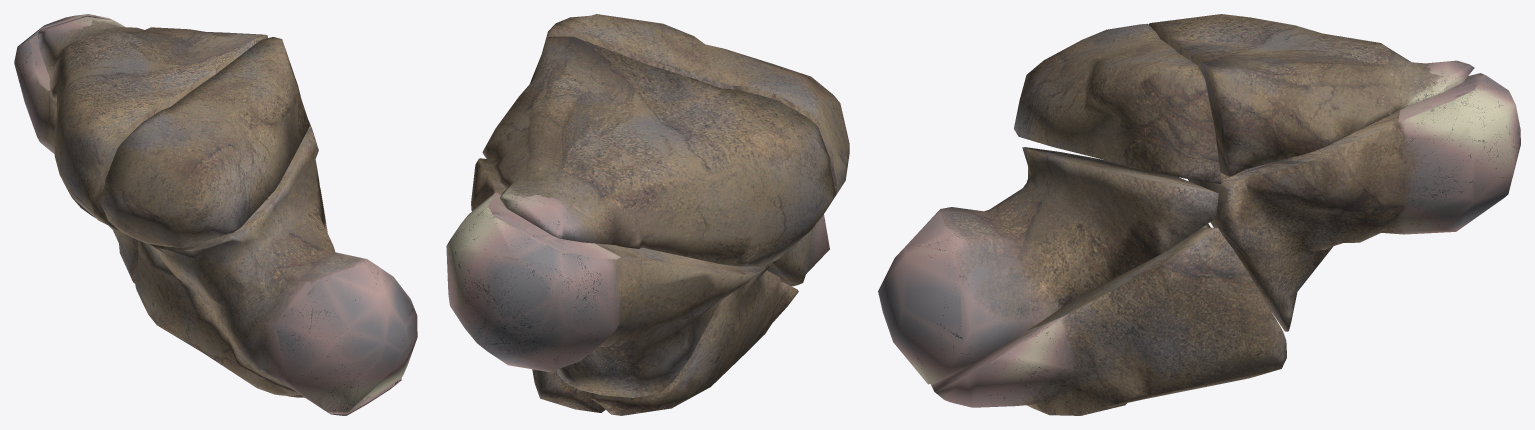
Rendered from SM_Mineral_6_Pieces.fbx.
The picture shows the model from 3 angles, left to right: view 1: azimuth 30°, elevation 25°; view 2: azimuth 150°, elevation 25°; view 3: azimuth 270°, elevation 25°; orthographic projection. The views are drawn at different scales.
Visible parts, largest first — view 1: SM_Mineral_6_Piece_5, SM_Mineral_6_Piece_3, SM_Mineral_6_Piece_2, SM_Mineral_6_Piece_1, SM_Mineral_6_Piece_4; view 2: SM_Mineral_6_Piece_2, SM_Mineral_6_Piece_4, SM_Mineral_6_Piece_3, SM_Mineral_6_Piece_1, SM_Mineral_6_Piece_5, SM_Mineral_6_Piece_6; view 3: SM_Mineral_6_Piece_5, SM_Mineral_6_Piece_4, SM_Mineral_6_Piece_6, SM_Mineral_6_Piece_2, SM_Mineral_6_Piece_3.
Part boxes in pixels (x1=…): SM_Mineral_6_Piece_5: x1=147, y1=120, x2=417, y2=414; SM_Mineral_6_Piece_3: x1=100, y1=37, x2=309, y2=247; SM_Mineral_6_Piece_2: x1=37, y1=15, x2=267, y2=230; SM_Mineral_6_Piece_1: x1=135, y1=240, x2=300, y2=395; SM_Mineral_6_Piece_4: x1=14, y1=14, x2=138, y2=283; SM_Mineral_6_Piece_2: x1=482, y1=36, x2=835, y2=266; SM_Mineral_6_Piece_4: x1=446, y1=158, x2=766, y2=397; SM_Mineral_6_Piece_3: x1=542, y1=14, x2=849, y2=222; SM_Mineral_6_Piece_1: x1=588, y1=263, x2=798, y2=415; SM_Mineral_6_Piece_5: x1=767, y1=214, x2=829, y2=286; SM_Mineral_6_Piece_6: x1=532, y1=369, x2=605, y2=412; SM_Mineral_6_Piece_5: x1=878, y1=147, x2=1218, y2=384; SM_Mineral_6_Piece_4: x1=1188, y1=73, x2=1520, y2=331; SM_Mineral_6_Piece_6: x1=930, y1=227, x2=1286, y2=415; SM_Mineral_6_Piece_2: x1=1148, y1=14, x2=1474, y2=176; SM_Mineral_6_Piece_3: x1=1014, y1=23, x2=1221, y2=183.
Size of the model in its own units: 0.6913 by 1.34 by 0.8093.
